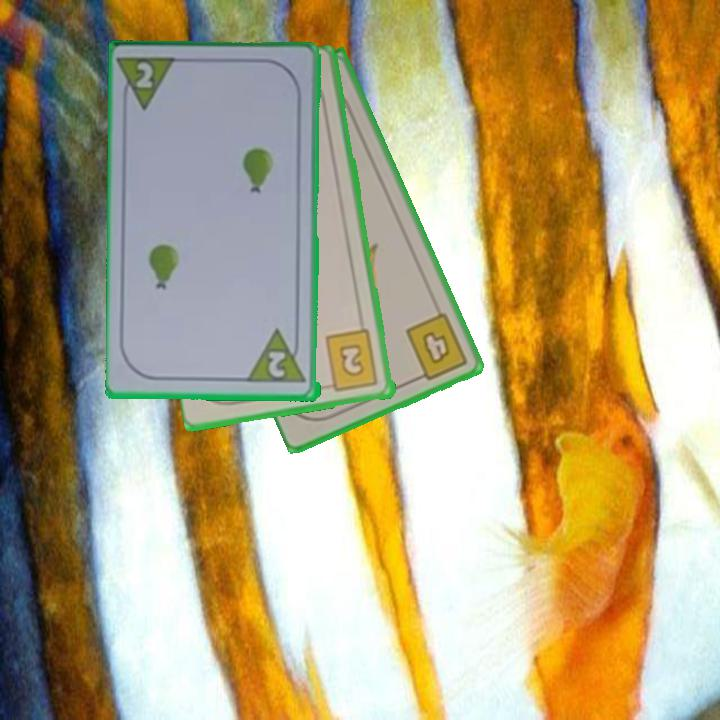2b: (320, 327, 382, 395)
2p: (265, 348, 291, 381), (133, 59, 156, 92)
4b: (402, 309, 472, 385)
